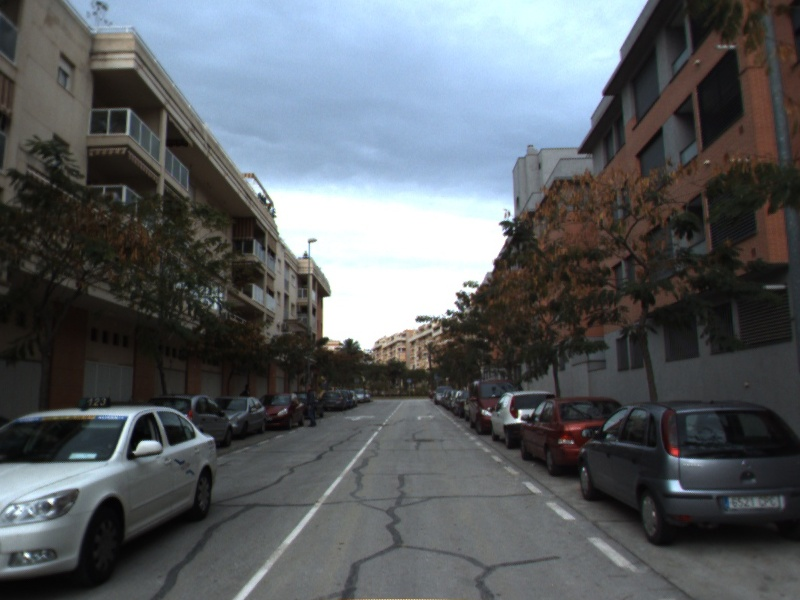RIGHT: (414, 412, 437, 422)
